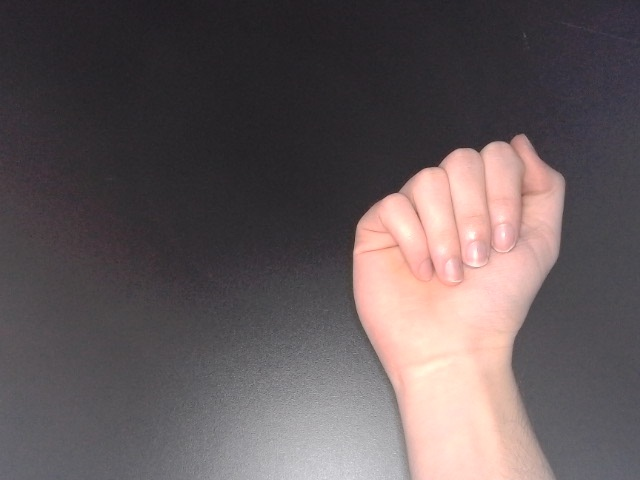a: (346, 132, 571, 381)
